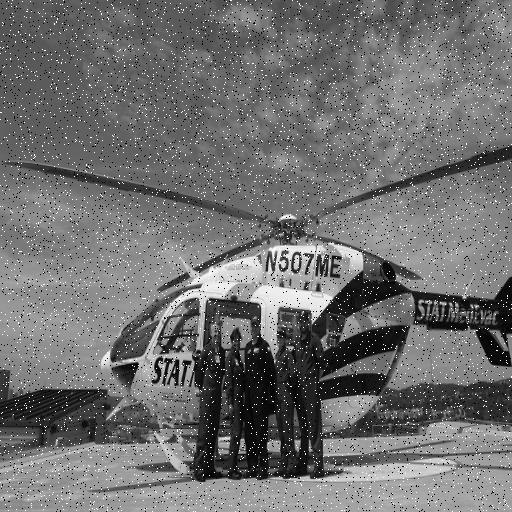helicopter: (10, 131, 512, 474)
